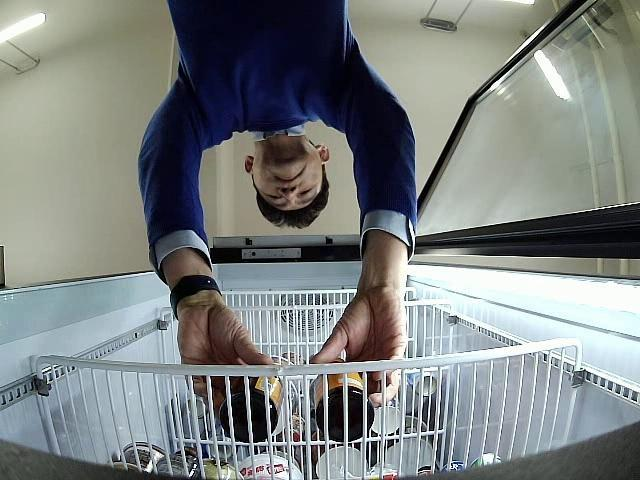17_vita500: (314, 357, 374, 442), (219, 374, 282, 440)
